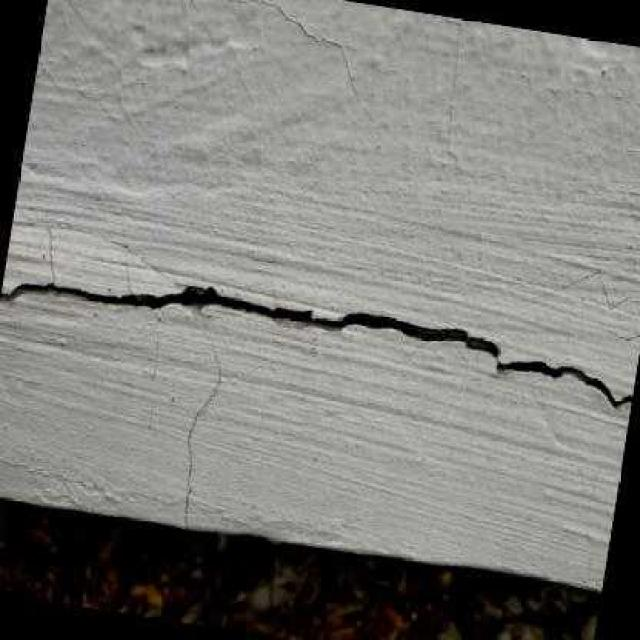D00: (0, 281, 632, 408), (184, 338, 220, 528)
